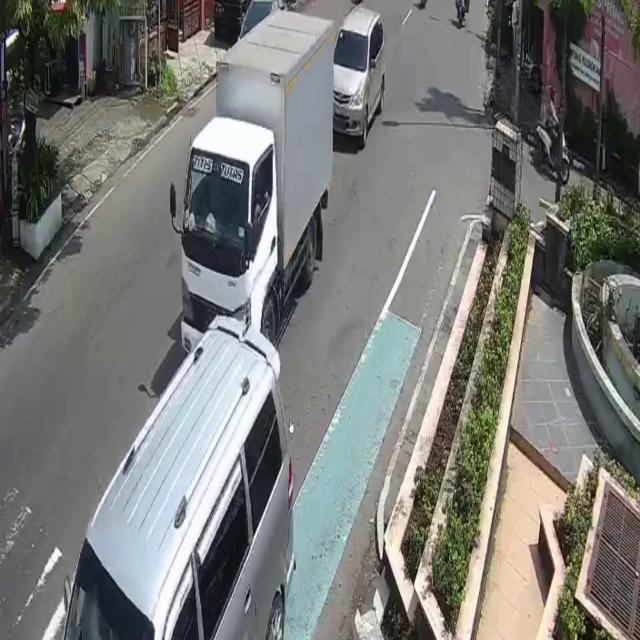bus: (532, 114, 572, 184)
motorcycle: (63, 316, 296, 640), (334, 5, 385, 150)
truck: (182, 12, 333, 361)
